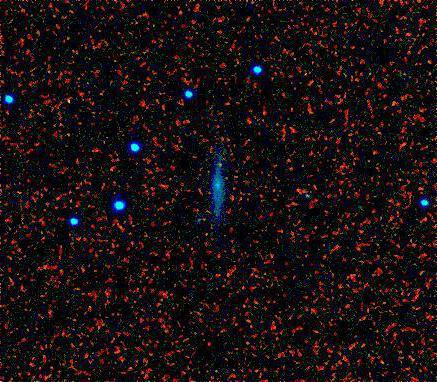star: (206, 150, 236, 180)
